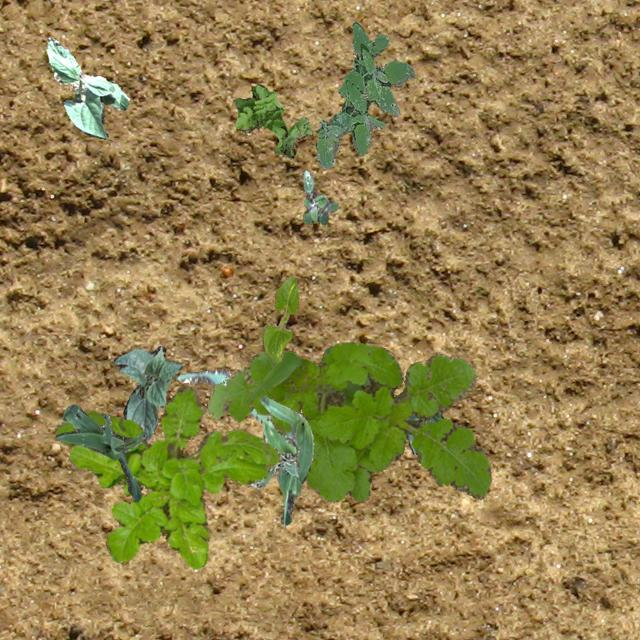crop: (176, 368, 300, 526), (55, 404, 146, 501), (45, 35, 128, 138), (112, 344, 184, 442), (258, 393, 312, 482), (260, 274, 298, 360), (404, 412, 442, 454)
weed: (207, 342, 490, 502), (54, 384, 280, 568), (314, 21, 416, 168), (232, 84, 312, 158), (250, 412, 298, 488), (302, 170, 338, 223)
